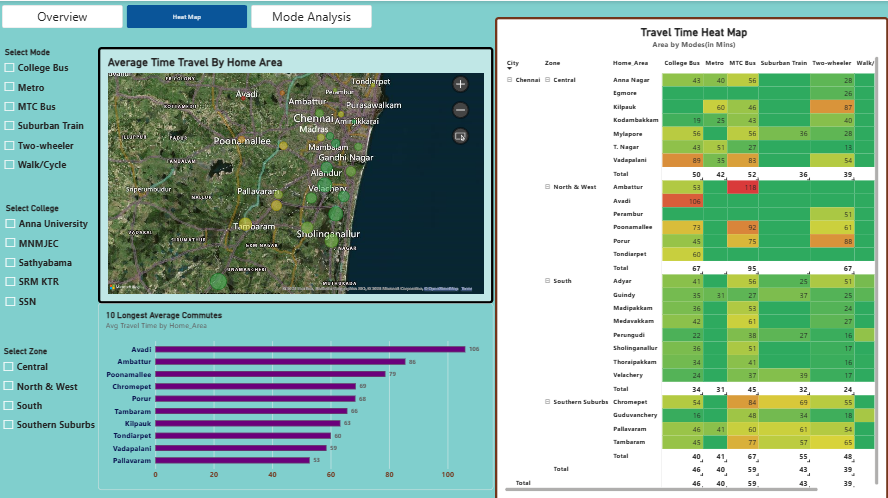

Layout of this report page (visuals, bound fields, positions):
{"tool":"powerbi","page":{"name":"Heat Map","canvas":[1920,1080],"ordinal":1},"visuals":[{"type":"map","title":"Average Time Travel By Home Area","fields":{"Category":["Areas.Home_Area"],"Size":["_Measures.Total Students"],"X":["Avg(Areas.Longitude)"],"Y":["Avg(Areas.Latitude)"]},"box":[212,100,854,554],"z":0},{"type":"pivotTable","title":"Travel Time Heat Map","fields":{"Columns":["Modes.Mode"],"Rows":["Areas.Location Hierarchy.City","Areas.Location Hierarchy.Zone","Areas.Location Hierarchy.Home_Area"],"Values":["select","_Measures.Avg Travel Time"]},"box":[1070,34,850,1046],"z":1000},{"type":"barChart","title":"10 Longest Average Commutes","fields":{"Category":["Areas.Home_Area"],"Y":["_Measures.Avg Travel Time"]},"box":[211.7,653.3,854.2,403.6],"z":2000},{"type":"slicer","fields":{"Values":["Modes.Mode"]},"box":[1.8,99.5,211.7,275.1],"z":3000},{"type":"slicer","fields":{"Values":["Colleges.College"]},"box":[4,436,211.7,242.5],"z":4000},{"type":"slicer","fields":{"Values":["Areas.Zone"]},"box":[0,745.6,215.3,215.3],"z":5000},{"type":"pageNavigator","box":[3.6,9,800,50],"z":6000}]}

Visuals, with their boxes in screenshot pixels (x1, y1, x2, y2), scaled from the page's 1920x1080 canvas onto the 888x498 screenshot:
"Average Time Travel By Home Area" map: [98,46,493,302]
"Travel Time Heat Map" pivotTable: [495,16,887,497]
"10 Longest Average Commutes" barChart: [98,301,493,487]
slicer - Modes.Mode: [1,46,99,173]
slicer - Colleges.College: [2,201,100,313]
slicer - Areas.Zone: [0,344,100,443]
pageNavigator: [2,4,372,27]
